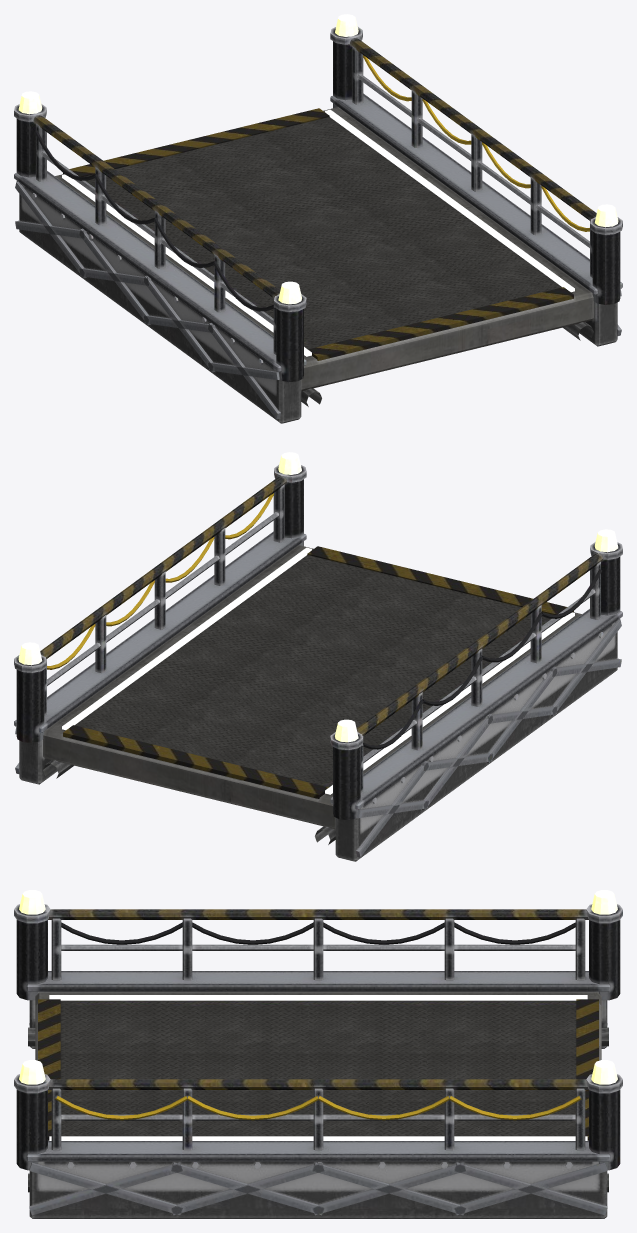
File: bridge.glb
The picture shows the model from 3 angles, top to bottom: view 1: azimuth 30°, elevation 25°; view 2: azimuth 150°, elevation 25°; view 3: azimuth 270°, elevation 25°; orthographic projection. The views are drawn at different scales.
Visible parts, largest first — view 1: body, team_glow; view 2: body, team_glow; view 3: body, team_glow.
Boxes of the visible parts, x1,y1,x2,y2 form: body: [14, 14, 622, 423]; team_glow: [62, 109, 574, 356]; body: [14, 452, 622, 861]; team_glow: [62, 547, 574, 794]; body: [14, 890, 622, 1218]; team_glow: [49, 995, 587, 1140].
Size of the model in its own units: 3.1 by 1.17 by 4.3.
2 materials, 1 textured.
